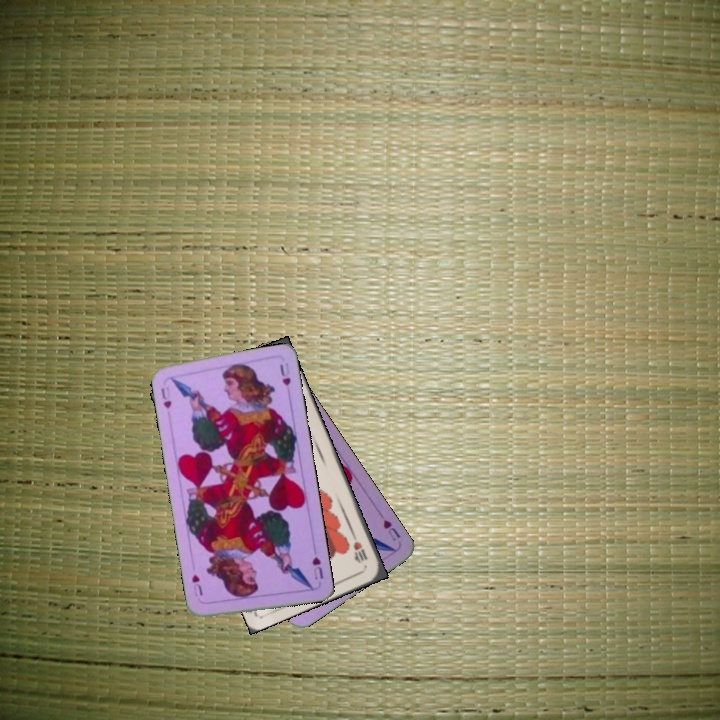H10: (348, 529, 370, 565)
HU: (379, 516, 403, 543), (308, 552, 326, 582), (157, 384, 174, 411)
